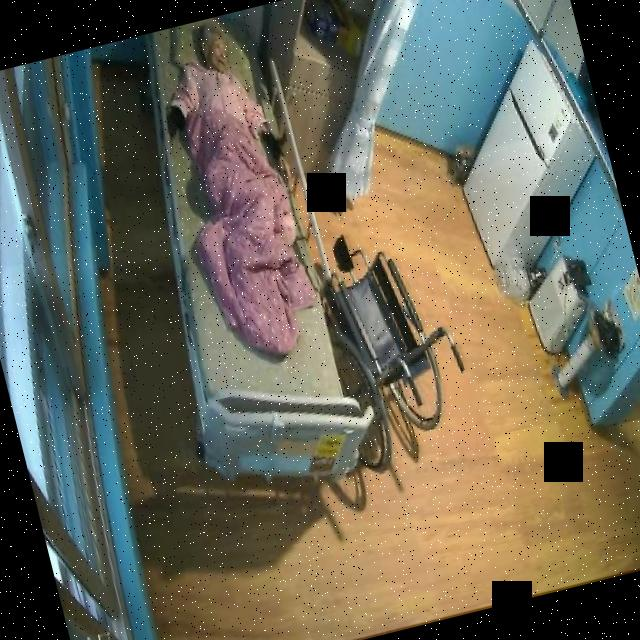bed: (105, 6, 372, 499)
lie: (142, 9, 332, 373)
patient: (144, 8, 289, 182)
